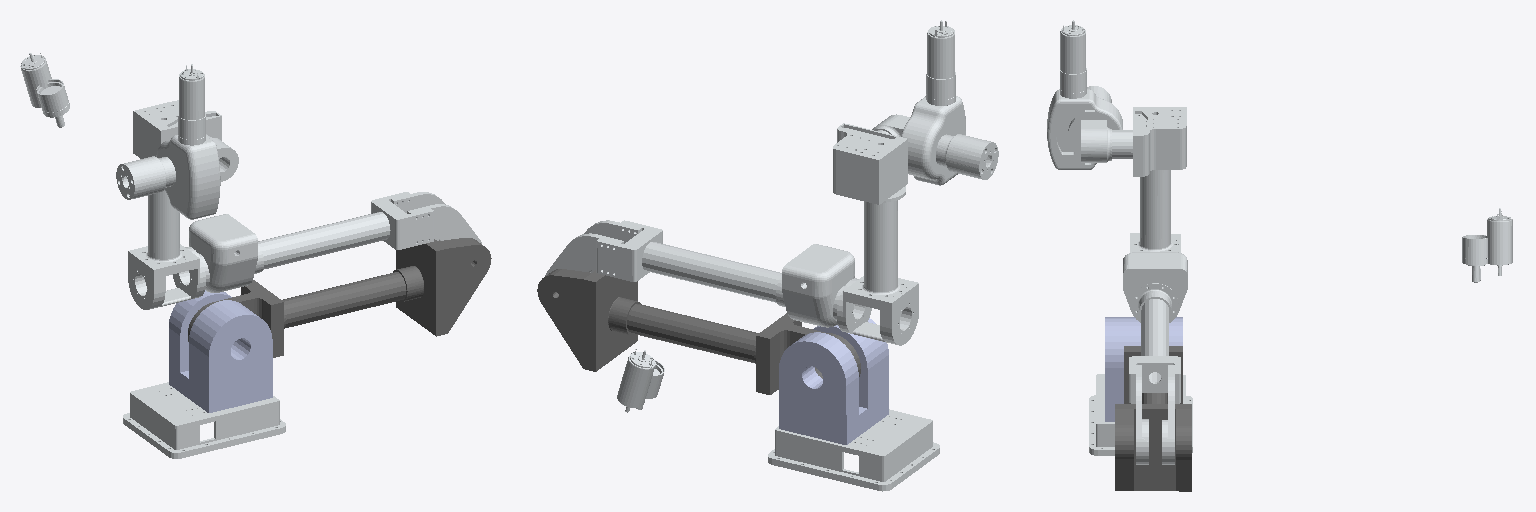
The robot description file, URDF, robot "arm_description":
<?xml version="1.0" encoding="utf-8"?>
<robot
  name="arm_description">
   <link name="world"/>

 <joint name="grouding" type="fixed">
   <parent link="world"/>
   <child link="base_link"/>
   <origin
     xyz="0 0 0.1"
     rpy="3.14 0 0" />
 </joint>
 <link
    name="base_link">
    <inertial>
      <origin
        xyz="0.0081055 -0.00017223 -0.0060369"
        rpy="0 0 0" />
      <mass
        value="0.8797" />
      <inertia
        ixx="0.00012142"
        ixy="1.9318E-06"
        ixz="-1.5581E-21"
        iyy="3.0734E-08"
        iyz="9.793E-20"
        izz="0.00012145" />
    </inertial>
    <visual>
      <origin
        xyz="0 0 0"
        rpy="0 0 0" />
      <geometry>
        <mesh
          filename="package://arm_description/meshes/base_link.STL" />
      </geometry>
      <material
        name="">
        <color
          rgba="0.89804 0.91765 0.92941 1" />
      </material>
    </visual>
    <collision>
      <origin
        xyz="0 0 0"
        rpy="0 0 0" />
      <geometry>
        <mesh
          filename="package://arm_description/meshes/base_link.STL" />
      </geometry>
    </collision>
  </link>
  <link
    name="eksen1_link">
    <inertial>
      <origin
        xyz="0 0.064054 -0.0017789"
        rpy="0 0 0" />
      <mass
        value="1.4155" />
      <inertia
        ixx="0"
        ixy="0"
        ixz="0"
        iyy="0"
        iyz="0"
        izz="0" />
    </inertial>
    <visual>
      <origin
        xyz="0 0 0"
        rpy="0 0 0" />
      <geometry>
        <mesh
          filename="package://arm_description/meshes/1_eksen_L.STL" />
      </geometry>
      <material
        name="">
        <color
          rgba="0.79216 0.81961 0.93333 1" />
      </material>
    </visual>
    <collision>
      <origin
        xyz="0 0 0"
        rpy="0 0 0" />
      <geometry>
        <mesh
          filename="package://arm_description/meshes/1_eksen_L.STL" />
      </geometry>
    </collision>
  </link>
  <joint
    name="eksen1_joint"
    type="revolute">
    <origin
      xyz="0.037739 0.0060369 -0.022125"
      rpy="-1.5708 0 0" />
    <parent
      link="base_link" />
    <child
      link="eksen1_link" />
    <axis
      xyz="0 -1 0" />
    <limit
      lower="-3.14"
      upper="3.14"
      effort="10"
      velocity="20" />
  </joint>
  <link
    name="eksen2_link">
    <inertial>
      <origin
        xyz="-0.0065699 0.24989 -0.016947"
        rpy="0 0 0" />
      <mass
        value="1.2949" />
      <inertia
        ixx="0.029466"
        ixy="0.0010685"
        ixz="-4.8277E-06"
        iyy="5.4374E-05"
        iyz="0.00022096"
        izz="0.029513" />
    </inertial>
    <visual>
      <origin
        xyz="0 0 0"
        rpy="0 0 0" />
      <geometry>
        <mesh
          filename="package://arm_description/meshes/2_eksen_L.STL" />
      </geometry>
      <material
        name="">
        <color
          rgba="0.49804 0.49804 0.49804 1" />
      </material>
    </visual>
    <collision>
      <origin
        xyz="0 0 0"
        rpy="0 0 0" />
      <geometry>
        <mesh
          filename="package://arm_description/meshes/2_eksen_L.STL" />
      </geometry>
    </collision>
  </link>
  <joint
    name="eksen2_joint"
    type="revolute">
    <origin
      xyz="0 0.093 0"
      rpy="-8.6736E-17 8.6736E-17 -1.5708" />
    <parent
      link="eksen1_link" />
    <child
      link="eksen2_link" />
    <axis
      xyz="0 0 -1" />
    <limit
      lower="-1.57"
      upper="1.57"
      effort="10"
      velocity="20" />
  </joint>
  <link
    name="eksen3_link">
    <inertial>
      <origin
        xyz="0.26713 0.067464 0.026885"
        rpy="0 0 0" />
      <mass
        value="2.6432" />
      <inertia
        ixx="0.0033569"
        ixy="-0.01011"
        ixz="-0.0018729"
        iyy="0.076559"
        iyz="-0.00052912"
        izz="0.076401" />
    </inertial>
    <visual>
      <origin
        xyz="0 0 0"
        rpy="0 0 0" />
      <geometry>
        <mesh
          filename="package://arm_description/meshes/3_eksen_L.STL" />
      </geometry>
      <material
        name="">
        <color
          rgba="0.89804 0.91765 0.92941 1" />
      </material>
    </visual>
    <collision>
      <origin
        xyz="0 0 0"
        rpy="0 0 0" />
      <geometry>
        <mesh
          filename="package://arm_description/meshes/3_eksen_L.STL" />
      </geometry>
    </collision>
  </link>
  <joint
    name="eksen3_joint"
    type="revolute">
    <origin
      xyz="-0.039 0.41 0"
      rpy="3.1416 8.6736E-17 -1.5708" />
    <parent
      link="eksen2_link" />
    <child
      link="eksen3_link" />
    <axis
      xyz="0 0 1" />
    <limit
      lower="0"
      upper="1.57"
      effort="10"
      velocity="20" />
  </joint>
  <link
    name="eksen4_link">
    <inertial>
      <origin
        xyz="0.0986967829210475 0.00238054464310046 0.0694933443443458"
        rpy="0 0 0" />
      <mass
        value="1.36543112069823" />
      <inertia
        ixx="7.01463941383603E-05"
        ixy="-0.000418870532854604"
        ixz="0.000395245279166743"
        iyy="0.0134159253297998"
        iyz="2.32375364561403E-05"
        izz="0.0133775702426983" />
    </inertial>
    <visual>
      <origin
        xyz="0 0 0"
        rpy="0 0 0" />
      <geometry>
        <mesh
          filename="package://arm_description/meshes/4_eksen_L.STL" />
      </geometry>
      <material
        name="">
        <color
          rgba="0.898039215686275 0.917647058823529 0.929411764705882 1" />
      </material>
    </visual>
    <collision>
      <origin
        xyz="0 0 0"
        rpy="0 0 0" />
      <geometry>
        <mesh
          filename="package://arm_description/meshes/4_eksen_L.STL" />
      </geometry>
    </collision>
  </link>
  <joint
    name="eksen4_joint"
    type="revolute">
    <origin
      xyz="0.4165 0.065 0.021552"
      rpy="1.5708 0 1.5708" />
    <parent
      link="eksen3_link" />
    <child
      link="eksen4_link" />
    <axis
      xyz="0 0 -1" />
    <limit
      lower="-3.14"
      upper="3.14"
      effort="10"
      velocity="20" />
  </joint>
  <link
    name="eksen5_link">
    <inertial>
      <origin
        xyz="-0.0071526308972033 -0.0447443865886979 0.0980581919064059"
        rpy="0 0 0" />
      <mass
        value="2.05411358806035" />
      <inertia
        ixx="0.00175076084420297"
        ixy="-0.000226248997253378"
        ixz="0.000334857890439837"
        iyy="0.0024081674432031"
        iyz="0.000845591620627312"
        izz="0.00278233047460811" />
    </inertial>
    <visual>
      <origin
        xyz="0 0 0"
        rpy="0 0 0" />
      <geometry>
        <mesh
          filename="package://arm_description/meshes/5_eksen_L.STL" />
      </geometry>
      <material
        name="">
        <color
          rgba="0.898039215686275 0.917647058823529 0.929411764705882 1" />
      </material>
    </visual>
    <collision>
      <origin
        xyz="0 0 0"
        rpy="0 0 0" />
      <geometry>
        <mesh
          filename="package://arm_description/meshes/5_eksen_L.STL" />
      </geometry>
    </collision>
  </link>
  <joint
    name="eksen5_joint"
    type="revolute">
    <origin
      xyz="0.226 -0.007 0.0455"
      rpy="-1.5708 0 3.1416" />
    <parent
      link="eksen4_link" />
    <child
      link="eksen5_link" />
    <axis
      xyz="0 0 -1" />
    <limit
      lower="-3.14"
      upper="3.14"
      effort="10"
      velocity="20" />
  </joint>
  <link
    name="eksen6_link">
    <inertial>
      <origin
        xyz="-3.26405569239796E-14 8.32667268468867E-17 0.0481583763255272"
        rpy="0 0 0" />
      <mass
        value="0.299295530441066" />
      <inertia
        ixx="0"
        ixy="0"
        ixz="0"
        iyy="0"
        iyz="0"
        izz="0" />
    </inertial>
    <visual>
      <origin
        xyz="0 0 0"
        rpy="0 0 0" />
      <geometry>
        <mesh
          filename="package://arm_description/meshes/6_eksen_L.STL" />
      </geometry>
      <material
        name="">
        <color
          rgba="0.898039215686275 0.917647058823529 0.929411764705882 1" />
      </material>
    </visual>
    <collision>
      <origin
        xyz="0 0 0"
        rpy="0 0 0" />
      <geometry>
        <mesh
          filename="package://arm_description/meshes/6_eksen_L.STL" />
      </geometry>
    </collision>
  </link>
  <joint
    name="eksen6_joint"
    type="revolute">
    <origin
      xyz="0 -0.072 0.088"
      rpy="1.5708 0.36629 4.0556E-28" />
    <parent
      link="eksen5_link" />
    <child
      link="eksen6_link" />
    <axis
      xyz="0 0 -1" />
    <limit
      lower="-3.14"
      upper="3.14"
      effort="10"
      velocity="20" />
  </joint>
<transmission name="tran2">
    <type>transmission_interface/SimpleTransmission</type>
    <joint name="eksen2_joint">
      <hardwareInterface>hardware_interface/EffortJointInterface</hardwareInterface>
    </joint>
    <actuator name="motor2">
      <hardwareInterface>hardware_interface/EffortJointInterface</hardwareInterface>
      <mechanicalReduction>1</mechanicalReduction>
    </actuator>
  </transmission> 
<transmission name="tran1">
    <type>transmission_interface/SimpleTransmission</type>
    <joint name="eksen1_joint">
      <hardwareInterface>hardware_interface/EffortJointInterface</hardwareInterface>
    </joint>
    <actuator name="motor1">
      <hardwareInterface>hardware_interface/EffortJointInterface</hardwareInterface>
      <mechanicalReduction>1</mechanicalReduction>
    </actuator>
  </transmission> 
<transmission name="tran3">
    <type>transmission_interface/SimpleTransmission</type>
    <joint name="eksen3_joint">
      <hardwareInterface>hardware_interface/EffortJointInterface</hardwareInterface>
    </joint>
    <actuator name="motor3">
      <hardwareInterface>hardware_interface/EffortJointInterface</hardwareInterface>
      <mechanicalReduction>1</mechanicalReduction>
    </actuator>
  </transmission>
<transmission name="tran4">
    <type>transmission_interface/SimpleTransmission</type>
    <joint name="eksen4_joint">
      <hardwareInterface>hardware_interface/EffortJointInterface</hardwareInterface>
    </joint>
    <actuator name="motor4">
      <hardwareInterface>hardware_interface/EffortJointInterface</hardwareInterface>
      <mechanicalReduction>1</mechanicalReduction>
    </actuator>
  </transmission>
<transmission name="tran5">
    <type>transmission_interface/SimpleTransmission</type>
    <joint name="eksen5_joint">
      <hardwareInterface>hardware_interface/EffortJointInterface</hardwareInterface>
    </joint>
    <actuator name="motor5">
      <hardwareInterface>hardware_interface/EffortJointInterface</hardwareInterface>
      <mechanicalReduction>1</mechanicalReduction>
    </actuator>
  </transmission>
<transmission name="tran6">
    <type>transmission_interface/SimpleTransmission</type>
    <joint name="eksen6_joint">
      <hardwareInterface>hardware_interface/EffortJointInterface</hardwareInterface>
    </joint>
    <actuator name="motor6">
      <hardwareInterface>hardware_interface/EffortJointInterface</hardwareInterface>
      <mechanicalReduction>1</mechanicalReduction>
    </actuator>
  </transmission>
  <gazebo>
    <plugin name="gazebo_ros_control" filename="libgazebo_ros_control.so">
    </plugin>
  </gazebo>
</robot>

--- Facts derived from the render (not from the file) ---
The picture shows the robot from 3 angles, left to right: view 1: azimuth 30°, elevation 25°; view 2: azimuth 150°, elevation 25°; view 3: azimuth 270°, elevation 25°; orthographic projection.
Model arm_description with 8 links and 7 joints (6 revolute, 1 fixed), rooted at world, posed all joints at 0.
Visible links, largest first — view 1: eksen3_link, eksen2_link, eksen1_link, eksen4_link, base_link, eksen5_link, eksen6_link; view 2: eksen3_link, eksen2_link, eksen4_link, eksen1_link, base_link, eksen5_link, eksen6_link; view 3: eksen3_link, eksen5_link, eksen4_link, eksen2_link, eksen1_link, base_link.
Link boxes in pixels (<box>): eksen3_link: <box>20,53,481,292</box>; eksen2_link: <box>188,238,491,357</box>; eksen1_link: <box>169,290,272,412</box>; eksen4_link: <box>128,100,221,309</box>; base_link: <box>123,382,285,458</box>; eksen5_link: <box>156,64,238,219</box>; eksen6_link: <box>116,156,175,199</box>; eksen3_link: <box>545,220,854,412</box>; eksen2_link: <box>537,269,860,394</box>; eksen4_link: <box>833,123,918,345</box>; eksen1_link: <box>779,318,888,444</box>; base_link: <box>768,409,939,491</box>; eksen5_link: <box>872,20,965,185</box>; eksen6_link: <box>936,134,998,179</box>; eksen3_link: <box>1123,208,1512,464</box>; eksen5_link: <box>1047,20,1132,169</box>; eksen4_link: <box>1130,107,1186,252</box>; eksen2_link: <box>1115,346,1191,491</box>; eksen1_link: <box>1105,317,1182,421</box>; base_link: <box>1089,374,1192,455</box>.
Bounding box of the posed robot: 0.653 × 0.7187 × 0.6562 m (x, y, z).
7 mesh visuals loaded from 7 distinct referenced files (7 binary STL).